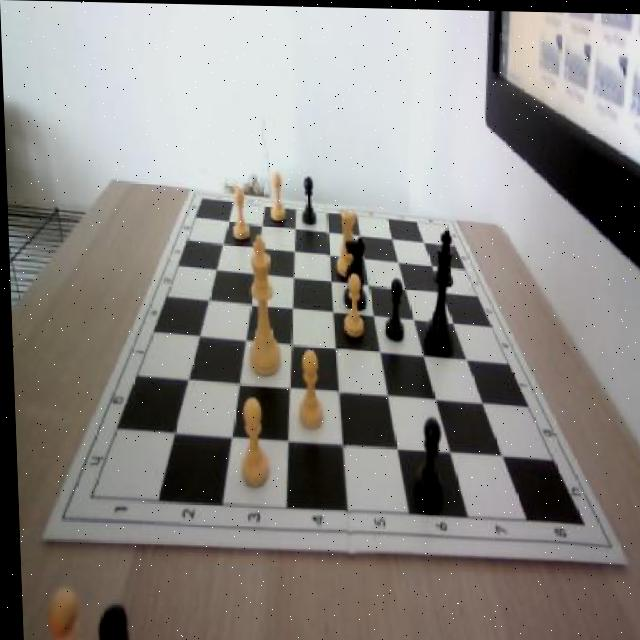black-bishop: (419, 223, 455, 346)
black-king: (340, 232, 364, 308)
black-knight: (410, 415, 442, 504), (382, 274, 405, 342), (299, 171, 316, 225)
white-bishop: (242, 232, 279, 379)
white-king: (333, 210, 363, 283)
white-knight: (233, 396, 268, 487), (291, 345, 325, 430), (341, 272, 364, 338), (267, 172, 287, 221), (230, 187, 249, 237)
